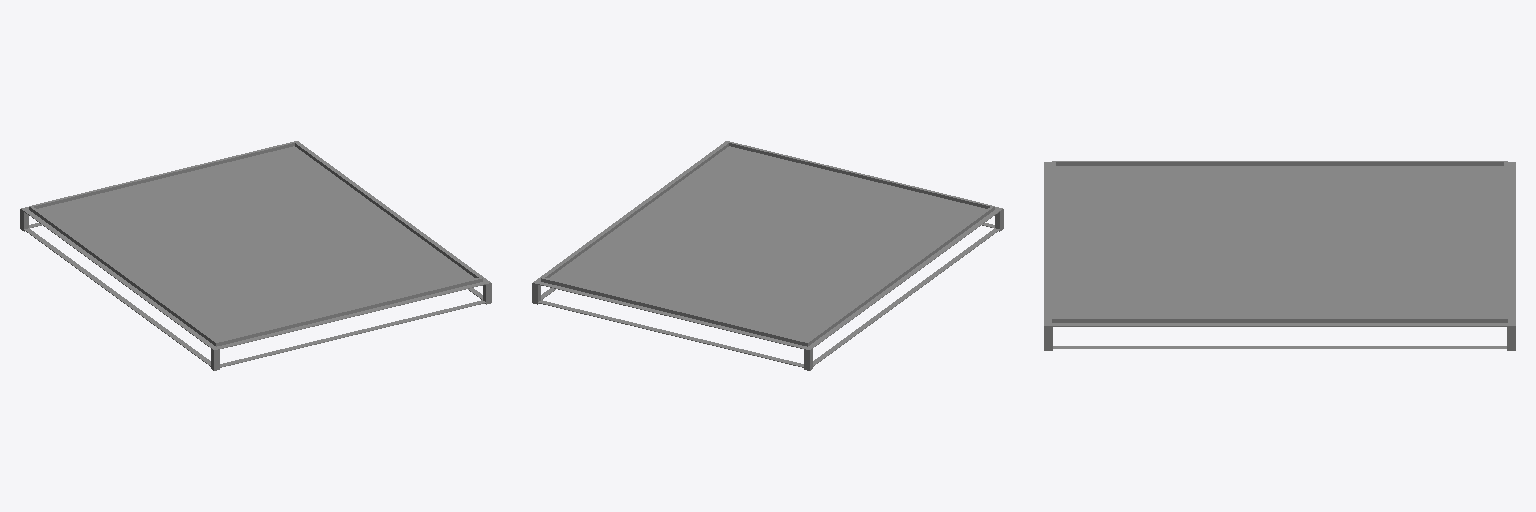
The robot description file, URDF, robot "model.urdf":
<?xml version="0.0" ?>
<robot name="model.urdf">
  <link name="baseLink">
    <contact>
      <friction_anchor/>
      <lateral_friction value="0.3"/>
      <rolling_friction value="0.0"/>
      <contact_cfm value="0.0"/>
      <contact_erp value="1.0"/>
    </contact>
    <inertial>
       <origin rpy="0 0 0" xyz="0 0 0"/>
       <mass value="0.1"/>
       <inertia ixx="8e-05" ixy="0" ixz="0" iyy="0.0002" iyz="0" izz="0.0002"/>
    </inertial>
    <visual>
          <origin xyz="0 0 0" rpy="0 0 0"/>
      <geometry>
        <mesh filename="Mesa.stl" scale="1.2 1.2 0.1"/>
      </geometry>
      <material name="Black">
  <color rgba="0.6 0.6 0.6 1"/>
      </material>
    </visual>
    <collision>
          <origin xyz="0 0 0" rpy="0 0 0"/>
      <geometry>
        <mesh filename="Mesa.stl"  scale="1.2 1.2 0.1"/>
      </geometry>
    </collision>
  </link>
</robot>

--- Facts derived from the render (not from the file) ---
The picture shows the robot from 3 angles, left to right: view 1: azimuth 30°, elevation 25°; view 2: azimuth 150°, elevation 25°; view 3: azimuth 270°, elevation 25°; orthographic projection.
Robot: model.urdf — 1 links, 0 joints (none); root link baseLink; default pose: every joint at zero.
Links seen in each view (by area): view 1: baseLink; view 2: baseLink; view 3: baseLink.
Link boxes in pixels (x1,y1,x2,y2): baseLink: [20, 141, 491, 370]; baseLink: [532, 141, 1003, 370]; baseLink: [1044, 161, 1515, 350].
Bounding box of the posed robot: 0.4559 × 0.552 × 0.038 m (x, y, z).
Meshes: 1 distinct files referenced, 1 mesh visuals loaded (1 binary STL).